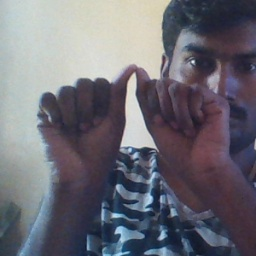A: (45, 61, 214, 167)
